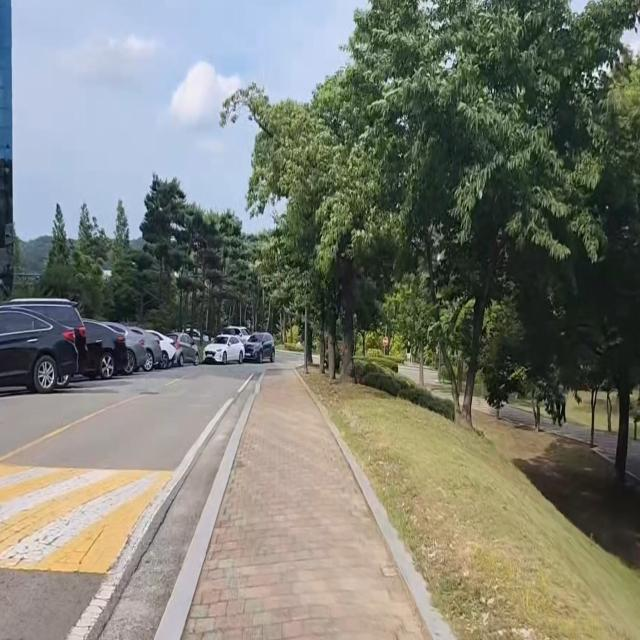obstacle: (81, 313, 205, 387), (0, 296, 92, 395), (202, 321, 282, 366)
road: (0, 367, 262, 640)
sidewalk: (157, 367, 447, 640)
